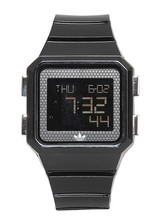watch: (15, 7, 143, 216)
